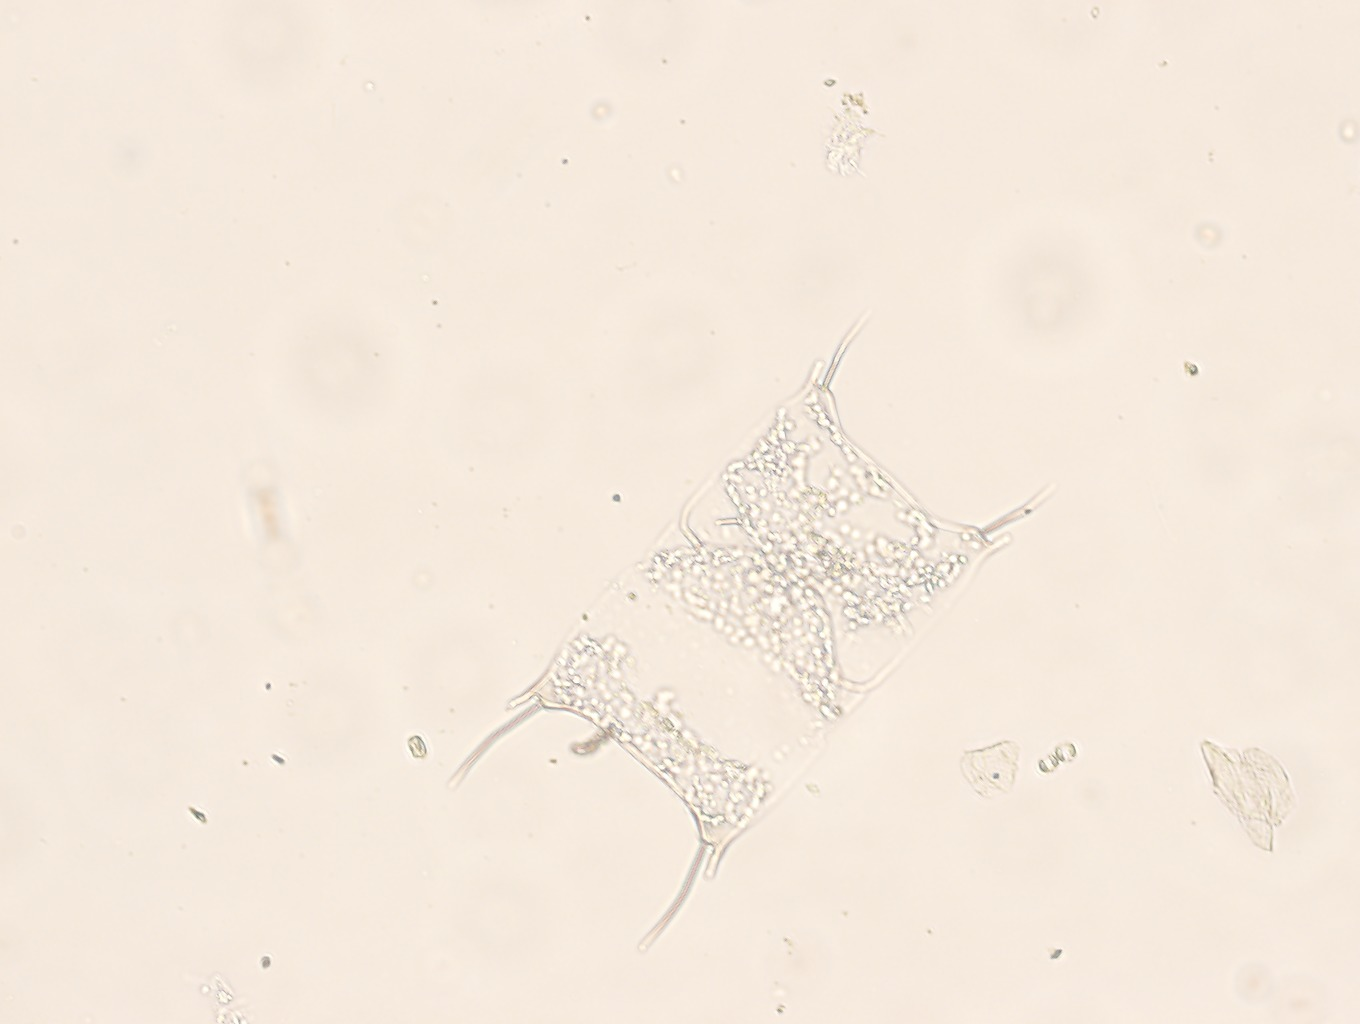biddulphia: (439, 303, 1058, 950)
